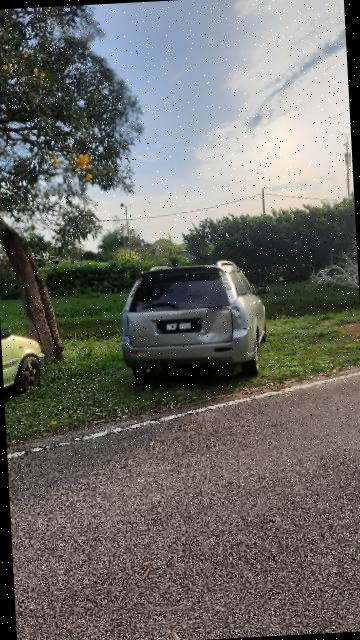License_Plate: (161, 318, 205, 336)
car: (120, 258, 271, 387)
